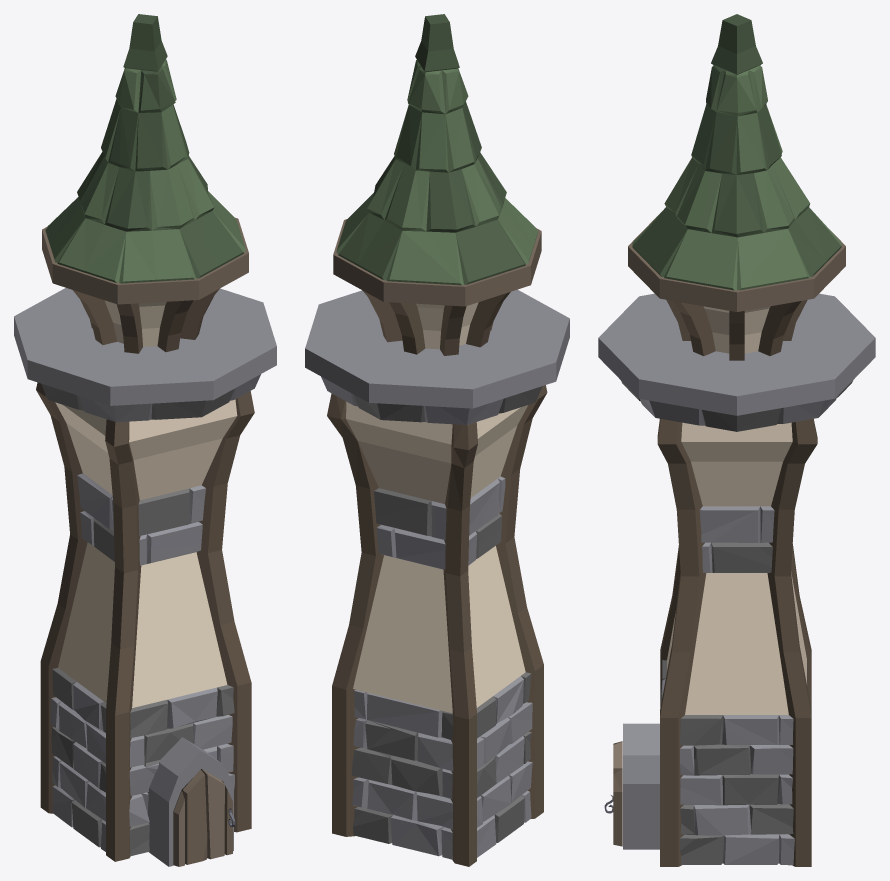
Rendered from Wizard_tower_LVL_1.fbx.
3 views of the same model, side by side, from view 1: azimuth 30°, elevation 25°; view 2: azimuth 150°, elevation 25°; view 3: azimuth 270°, elevation 25° (orthographic).
Visible parts, largest first — view 1: Wizard_tower_LVL_1; view 2: Wizard_tower_LVL_1; view 3: Wizard_tower_LVL_1.
Part boxes in pixels (x1,y1,x2,y2): Wizard_tower_LVL_1: [14, 14, 276, 866]; Wizard_tower_LVL_1: [305, 14, 569, 866]; Wizard_tower_LVL_1: [598, 14, 875, 866].
Size of the model in its own units: 552 by 1787 by 552.
